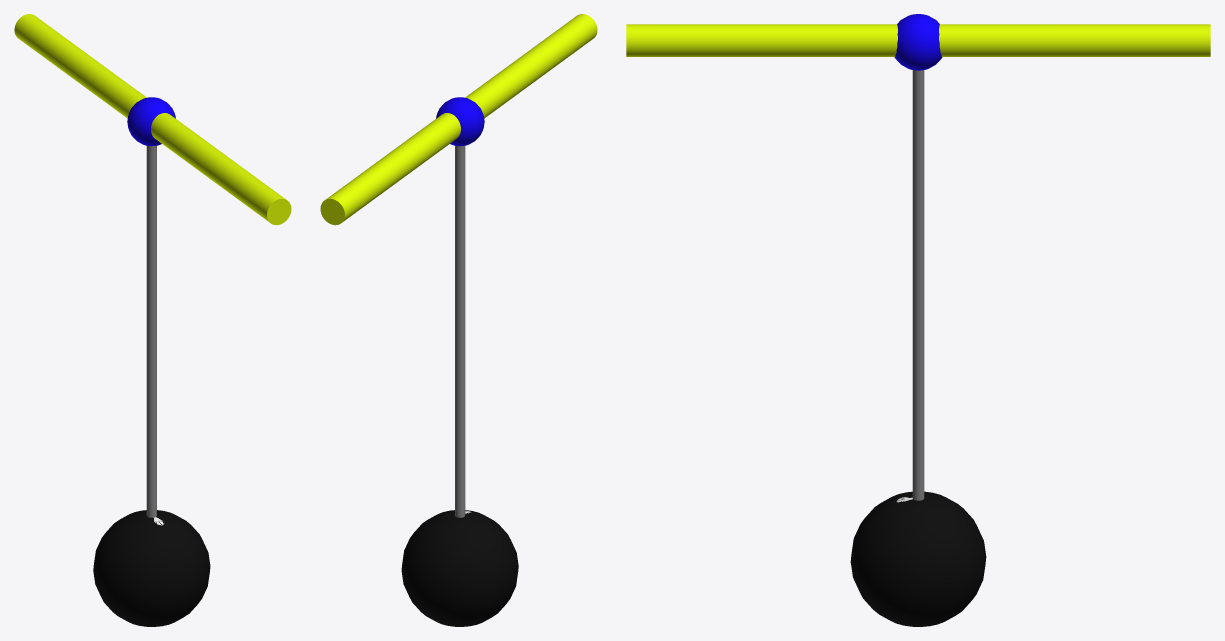
The model's file is skull ball.fbx.
3 renders of one model, left to right at view 1: azimuth 30°, elevation 25°; view 2: azimuth 150°, elevation 25°; view 3: azimuth 270°, elevation 25°, orthographic. The views are drawn at different scales.
Parts seen in each view (by area): view 1: sphere, hinged_ball, ball_hit, sphere_1; view 2: sphere, hinged_ball, ball_hit, sphere_1; view 3: hinged_ball, sphere, ball_hit, sphere_1.
Boxes of the visible parts, x1,y1,x2,y2 form: sphere: (93, 510, 210, 626); hinged_ball: (14, 14, 291, 225); ball_hit: (146, 145, 156, 517); sphere_1: (127, 97, 175, 146); sphere: (401, 510, 518, 626); hinged_ball: (320, 14, 597, 225); ball_hit: (455, 145, 465, 517); sphere_1: (436, 97, 484, 146); hinged_ball: (626, 24, 1210, 56); sphere: (850, 491, 986, 626); ball_hit: (912, 70, 924, 500); sphere_1: (894, 14, 942, 70).
Bounding box in the file's own units: 199 × 979 × 858.
Materials: 4 (1 with a texture image).
